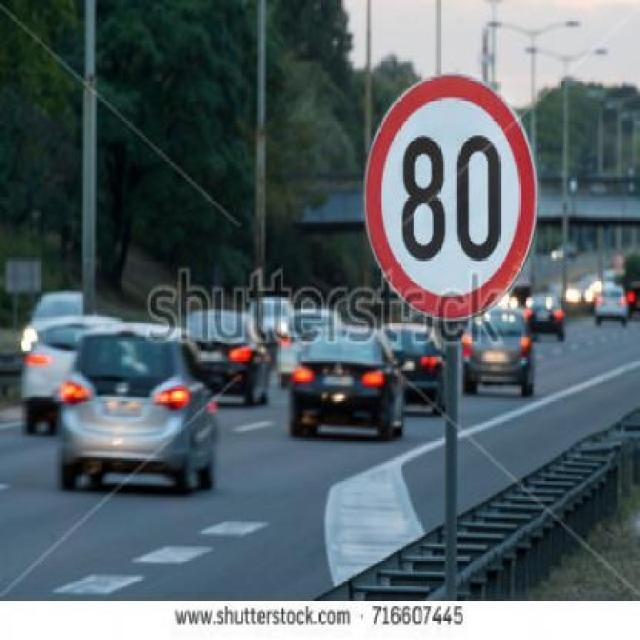forb_speed_over_80: (373, 90, 529, 305)
